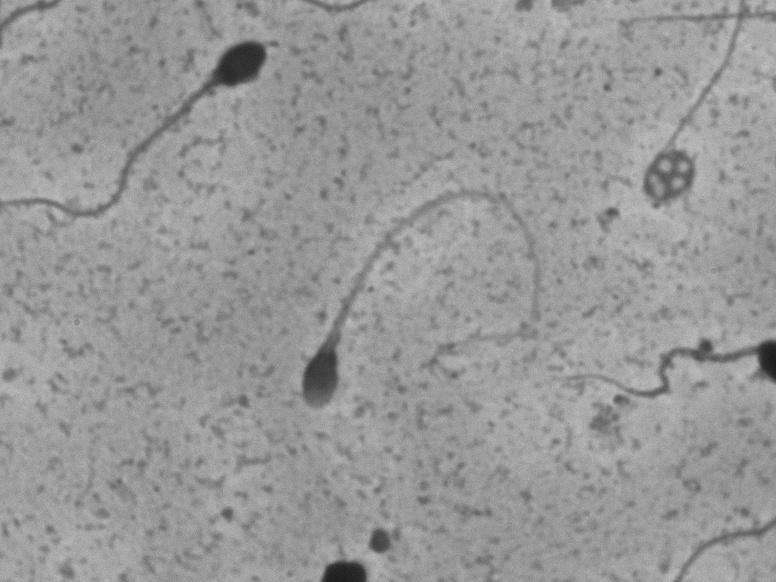Normal: (267, 170, 577, 435), (7, 27, 288, 259)
